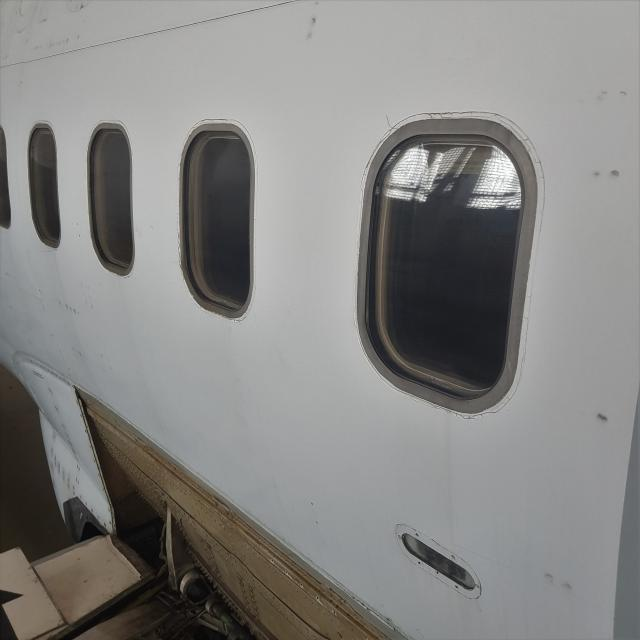crack: (382, 109, 401, 133)
